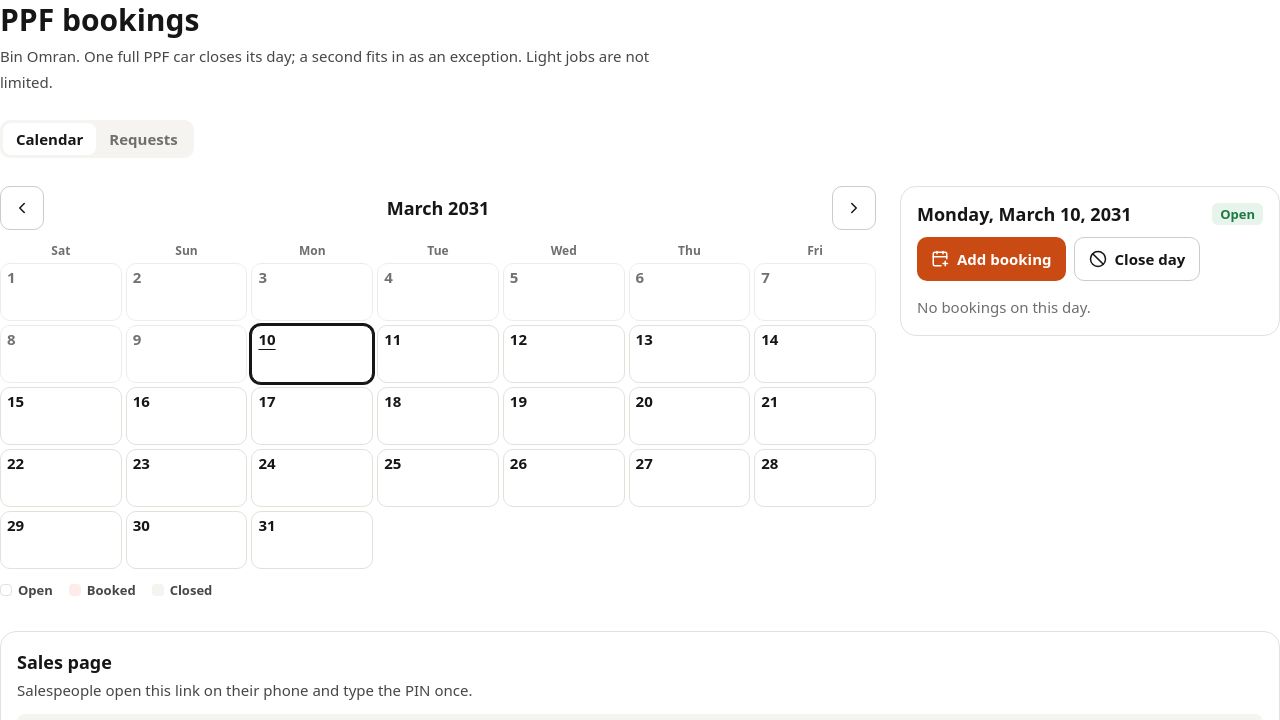
Sales page card › PPF requests inbox: long lists › says when older requests are not shown
Click the tab "Requests".
click(144, 139)  # box [96,122,191,155]
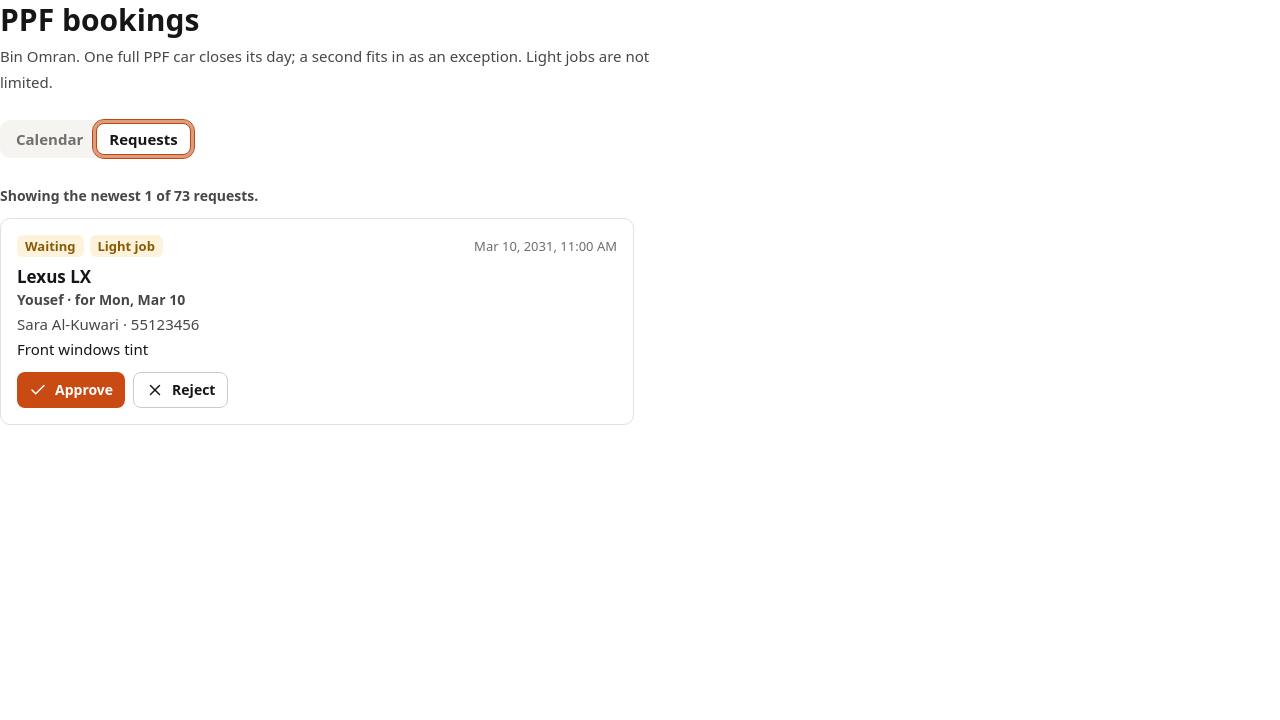
Expected: the text "Showing the newest 1 of 73 requests." is shown, [0,186,258,205]
